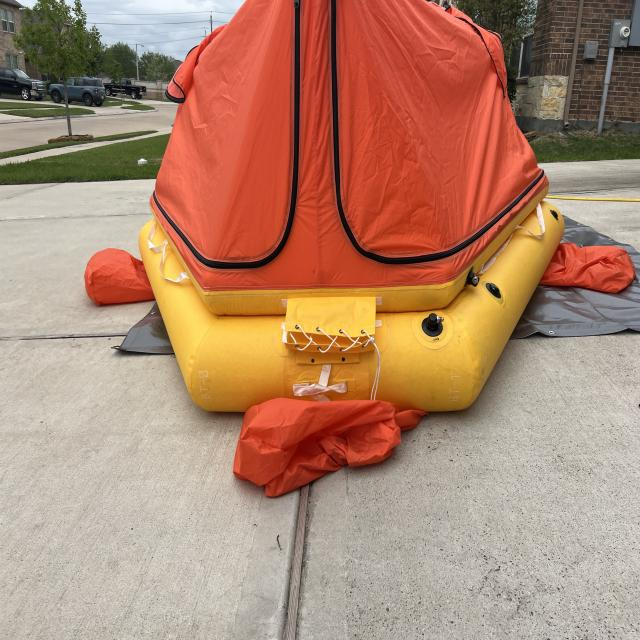Multi-person_life_raft: (84, 1, 634, 500)
